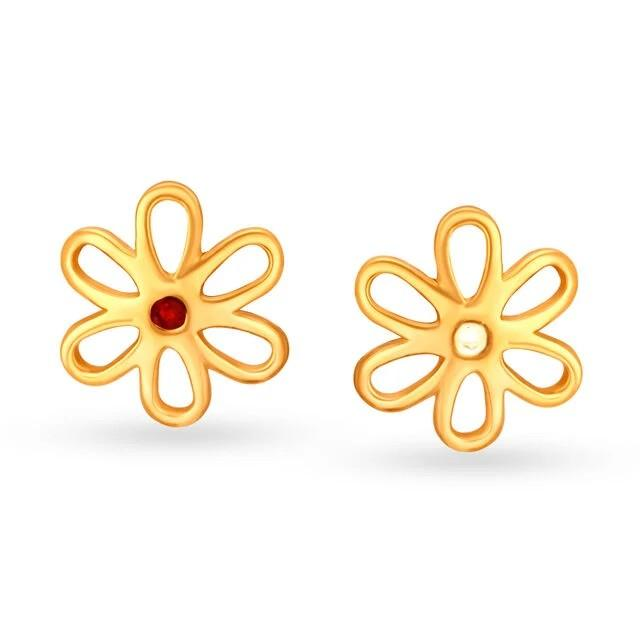missing gem: (452, 321, 489, 359)
